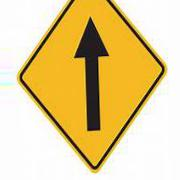forward: (17, 1, 168, 174)
